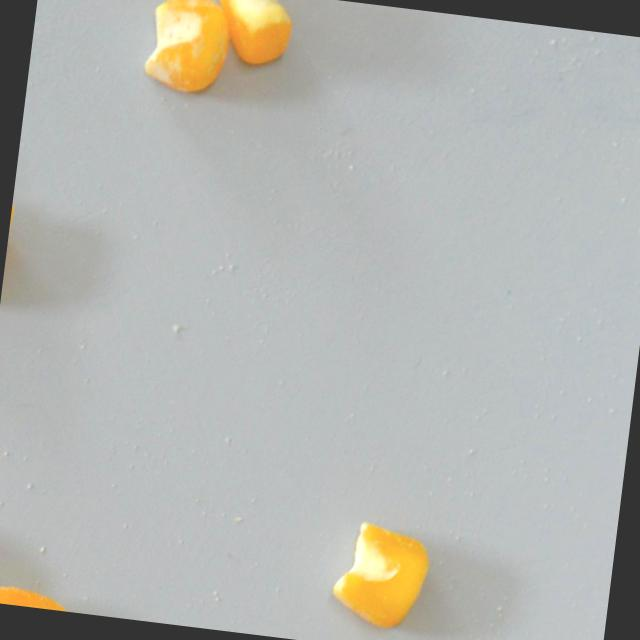no_canjicado: (328, 518, 435, 634)
pelicula: (137, 0, 237, 98), (0, 582, 81, 613)
